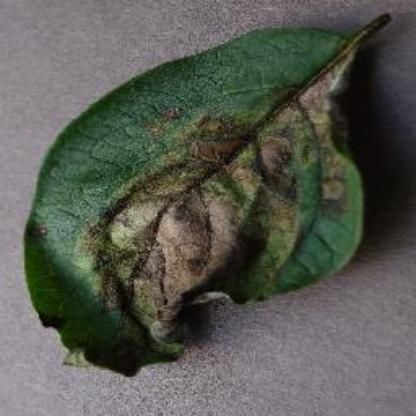Late-Blight: (22, 12, 396, 378)
